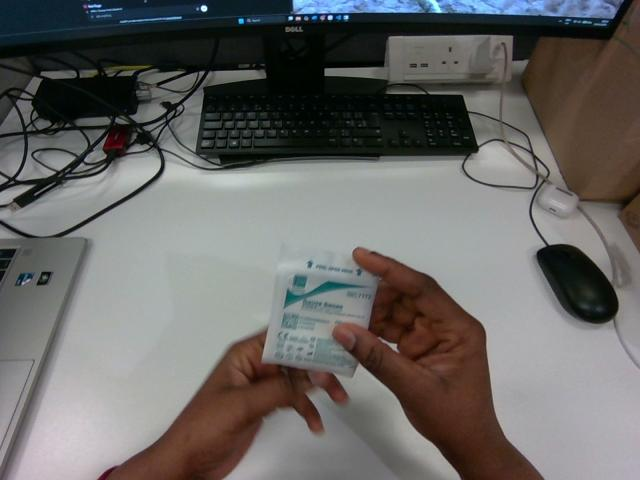gauze: (262, 245, 378, 375)
